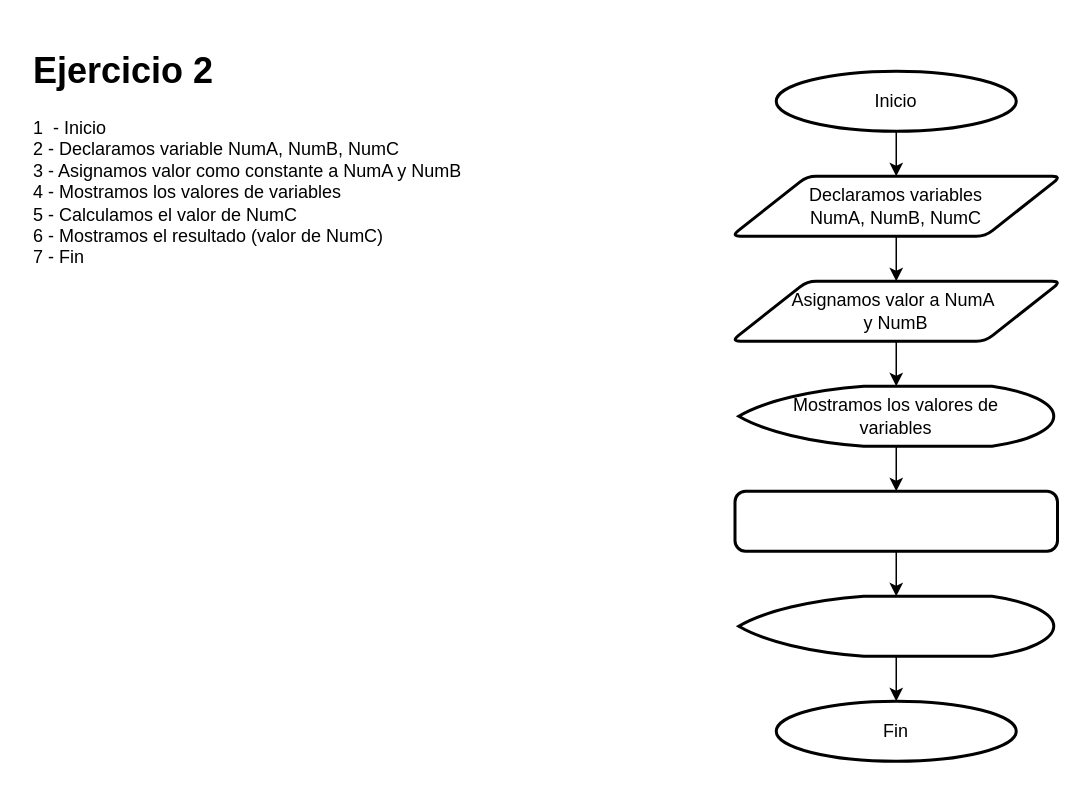
The diagram is 1088 pixels wide and 788 high, and some of its shapes have lost their labels. Here are the shapes that lost their labels. From the top down, the centre of each, then its label:
At [895,520]: "Calculamos el valor de NumC".
At [895,625]: "Mostramos el valor de NumC".
